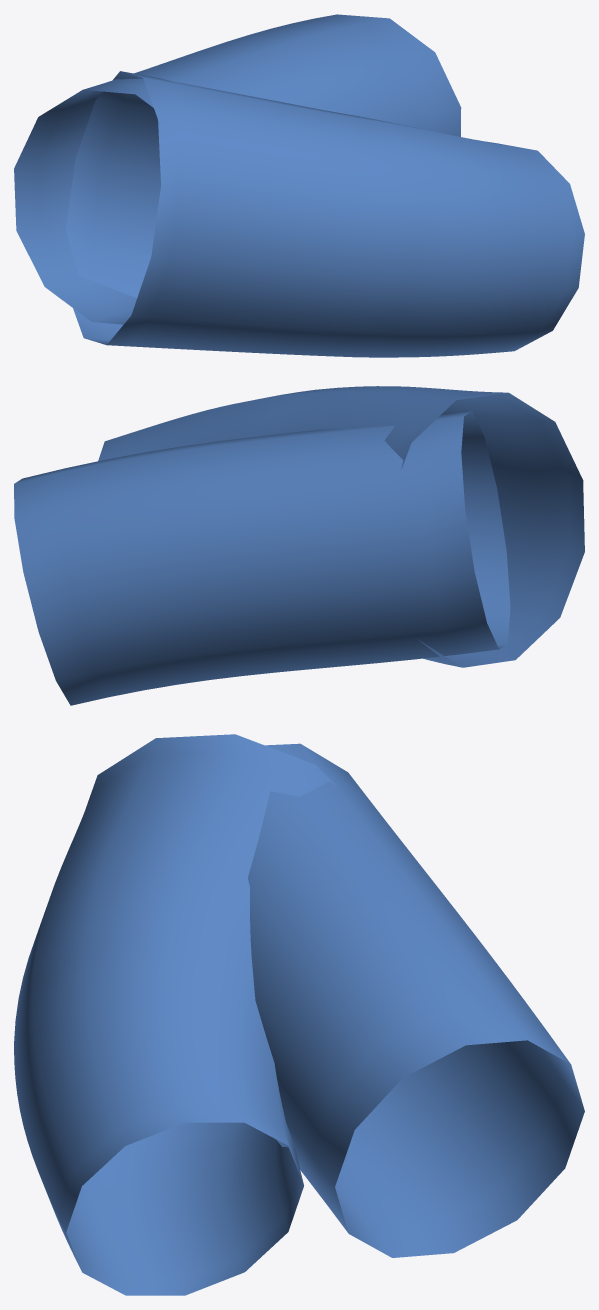
3 renders of one model, top to bottom at view 1: azimuth 30°, elevation 25°; view 2: azimuth 150°, elevation 25°; view 3: azimuth 270°, elevation 25°, orthographic. The views are drawn at different scales.
Visible parts, largest first — view 1: 左肺下静脉; view 2: 左肺下静脉; view 3: 左肺下静脉.
Part boxes in pixels (x1,y1,x2,y2): 左肺下静脉: (14, 14, 584, 357); 左肺下静脉: (14, 386, 584, 705); 左肺下静脉: (14, 734, 584, 1295).
Bounding box in the file's own units: 0.0223 × 0.0152 × 0.0205.
